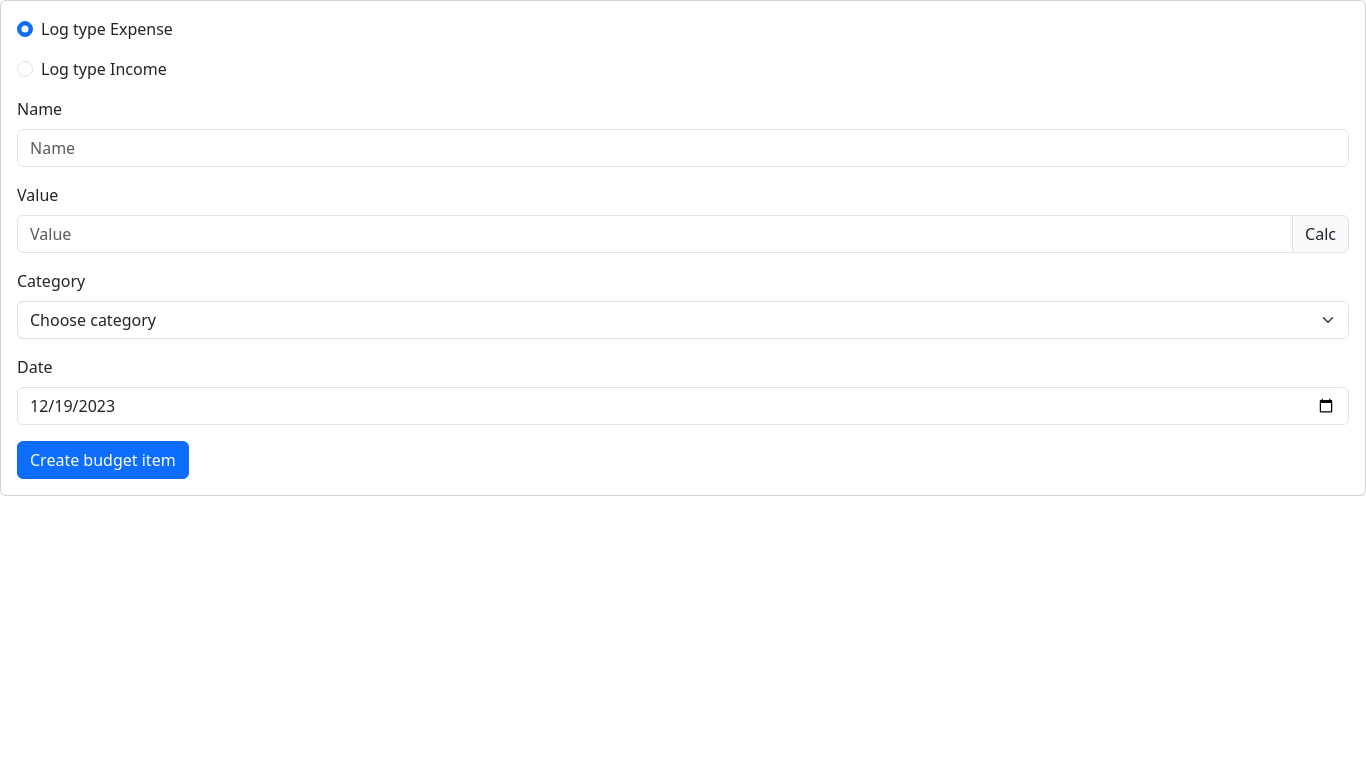
AddBudgetItemForm › Should calculate expression.
The width and height of the screenshot is (1366, 768).
Step 1. Click the text "Calc" → (1321,234), box [1292,215,1349,253]
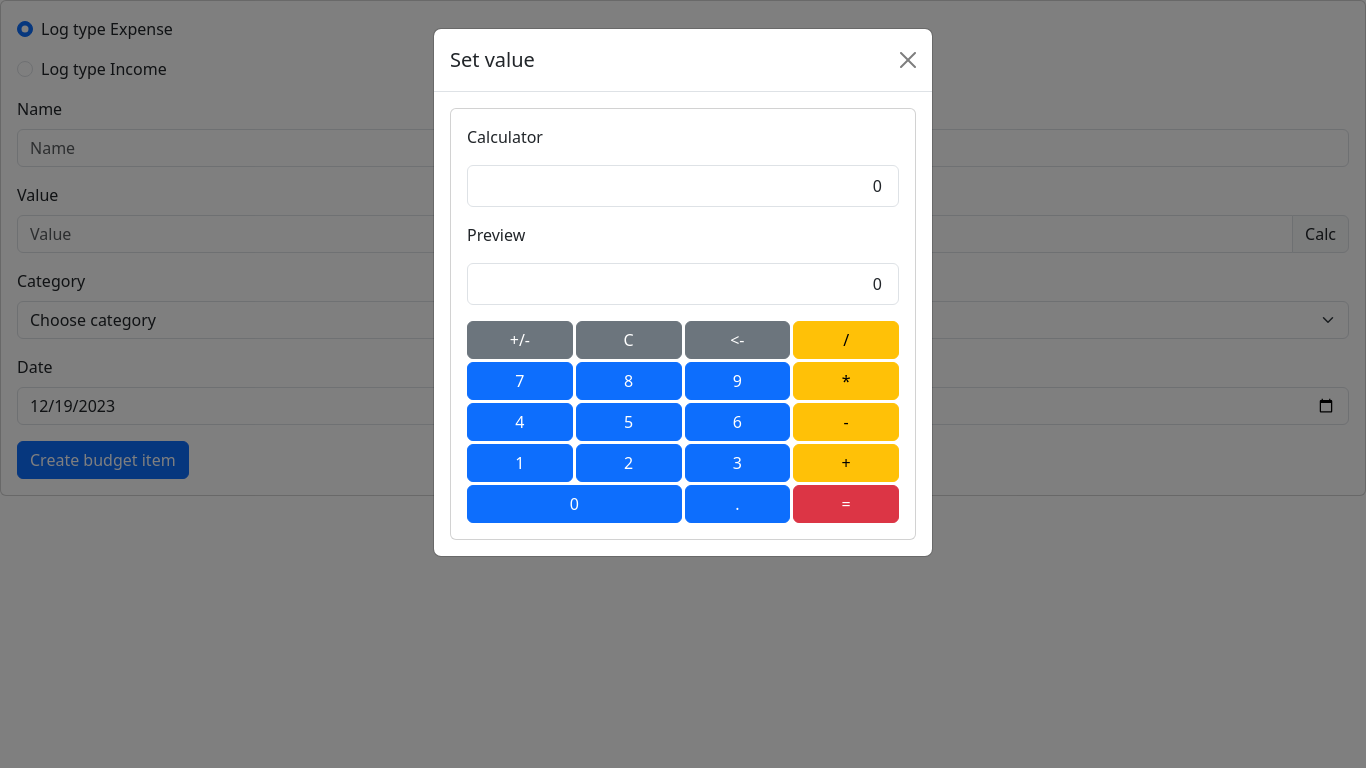
Now the element with test id "modal" that starts with "Set value" is shown
Step 2. Click the button "2" → (629,463), box [576,444,682,482]
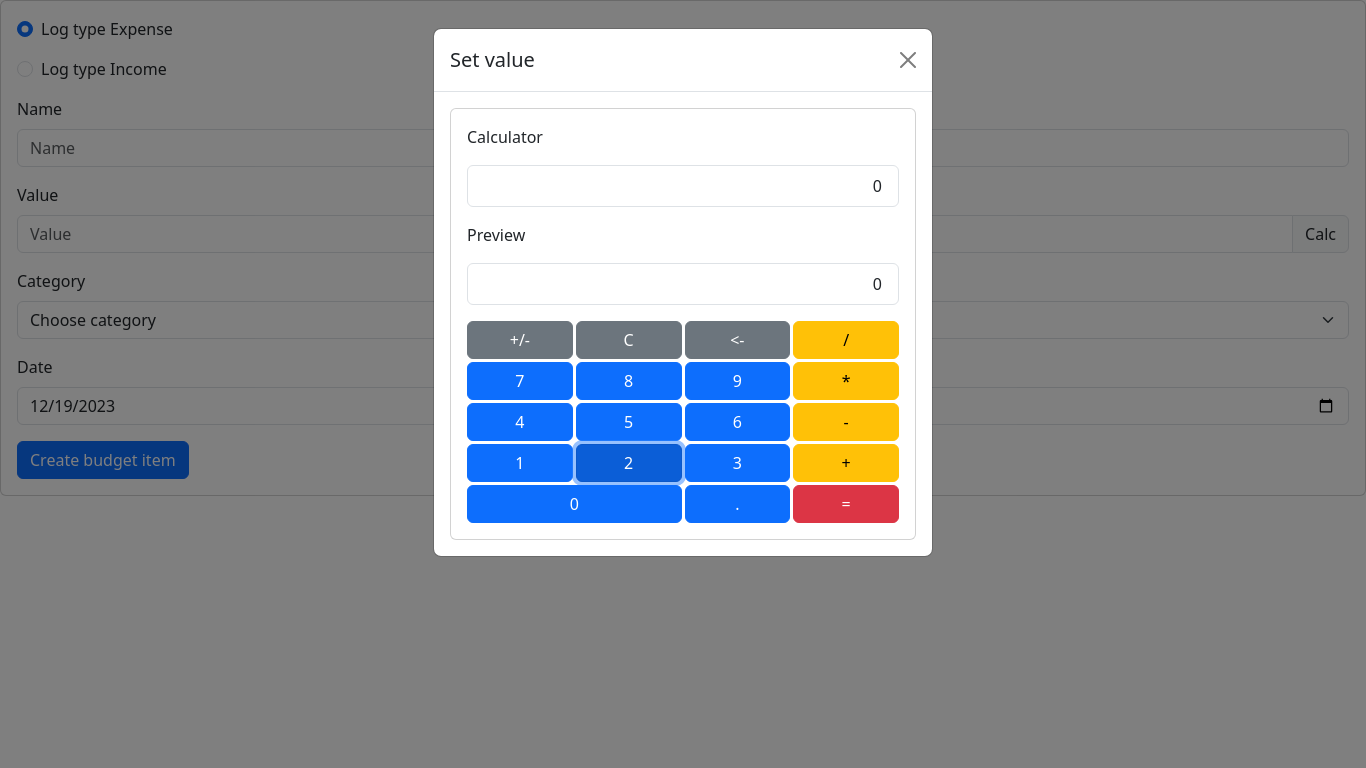
Step 3. Click the button "+" → (846,463), box [793,444,899,482]
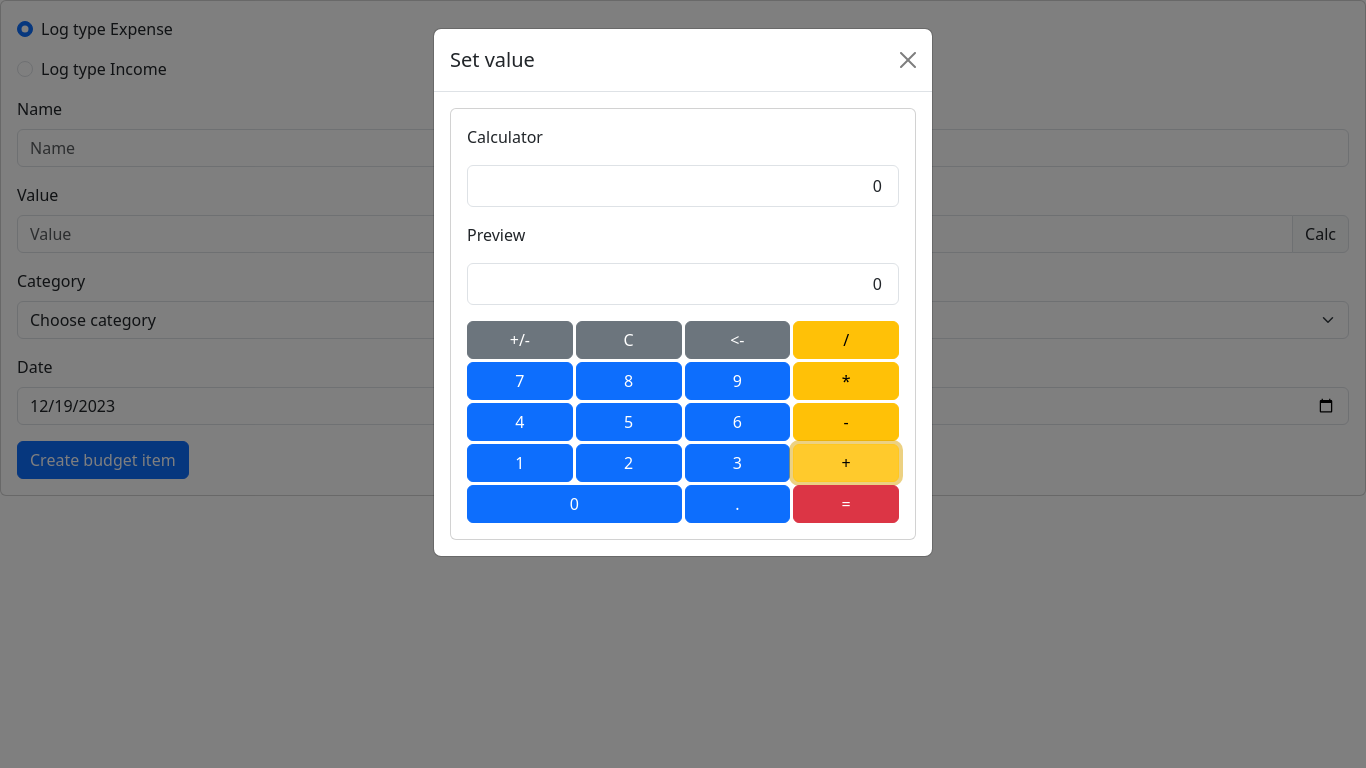
Step 4. Click the button "2" → (629,463), box [576,444,682,482]
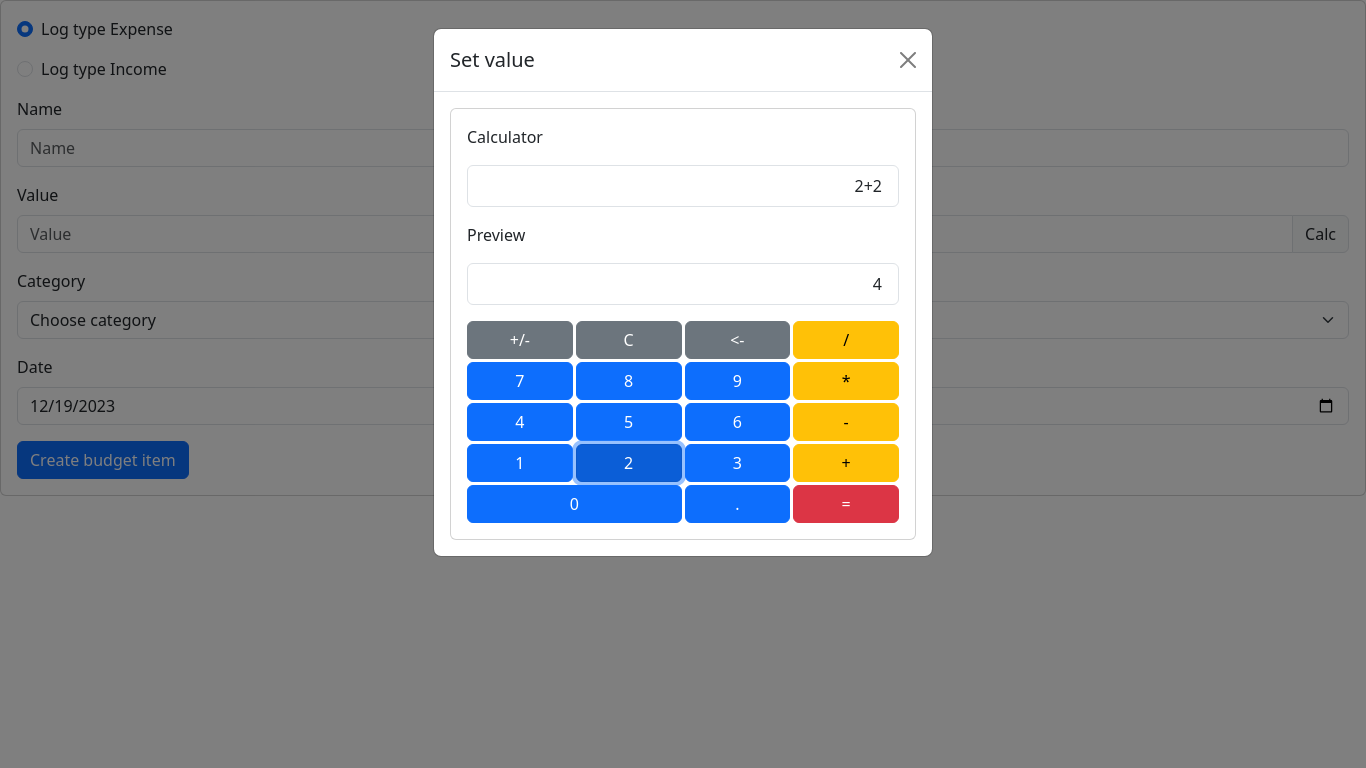
Now the text with test id "expression" reads "2+2", box [854,175,882,197]
Now the text with test id "result" reads "4", box [873,273,882,295]
